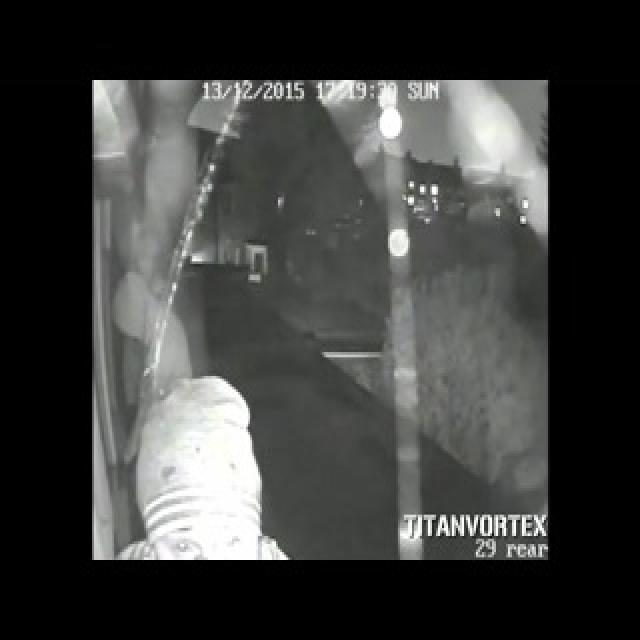thief: (141, 395, 266, 561)
